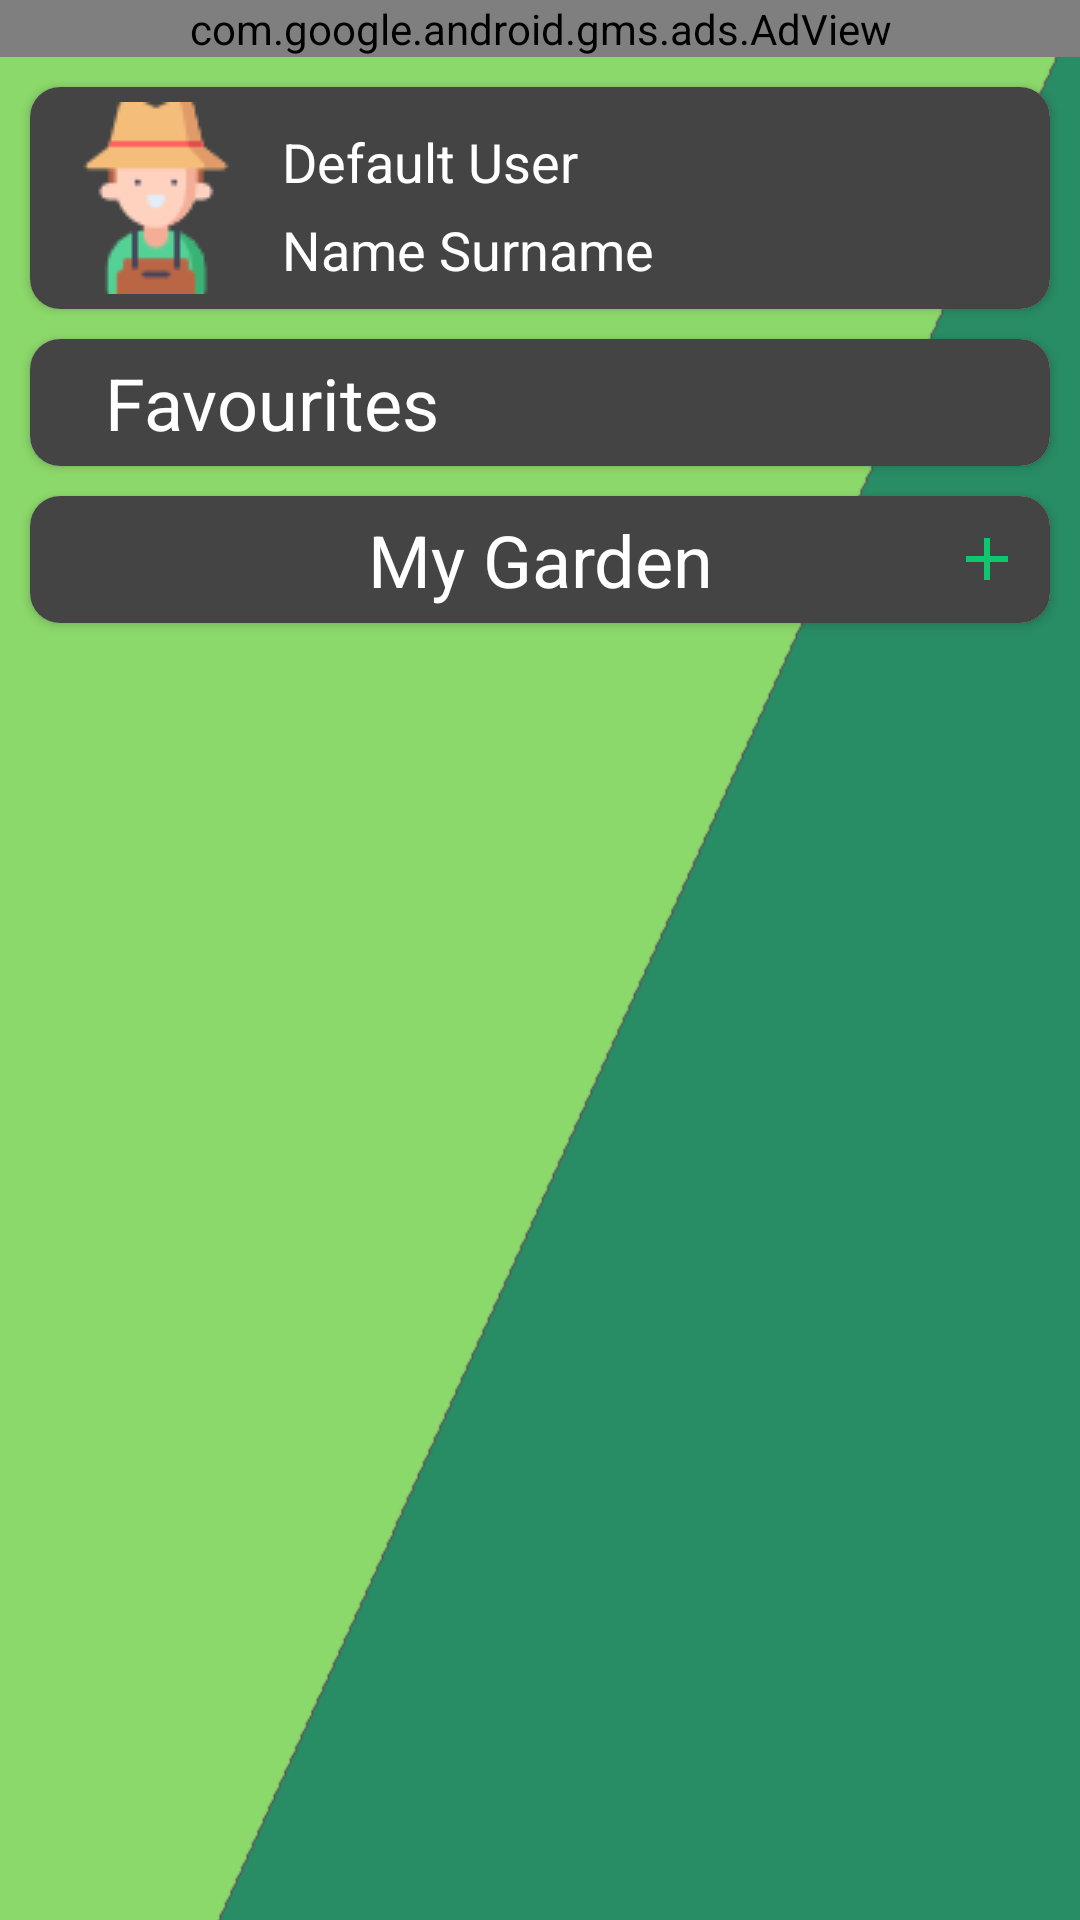

Where icons sit on this 1080×1920 app screen, as (x1, y1, x2, y2):
add: (966, 538, 1008, 580)
def gard: (84, 102, 229, 294)
